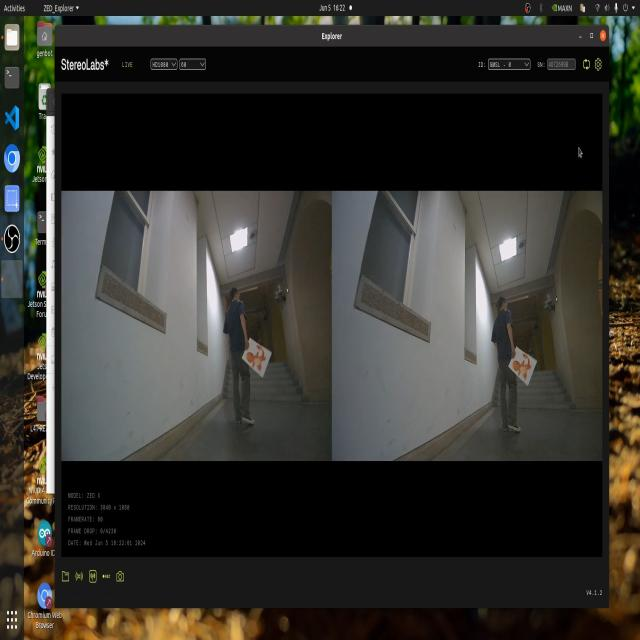red: (498, 342, 536, 388), (240, 336, 276, 377)
